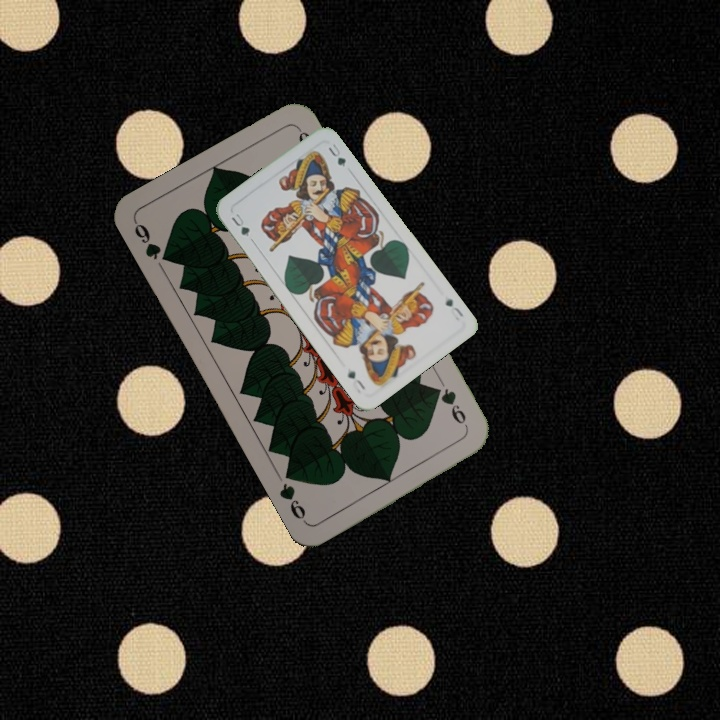G9: (130, 218, 175, 266), (429, 383, 472, 432)
GU: (227, 209, 252, 239), (441, 295, 466, 323)
